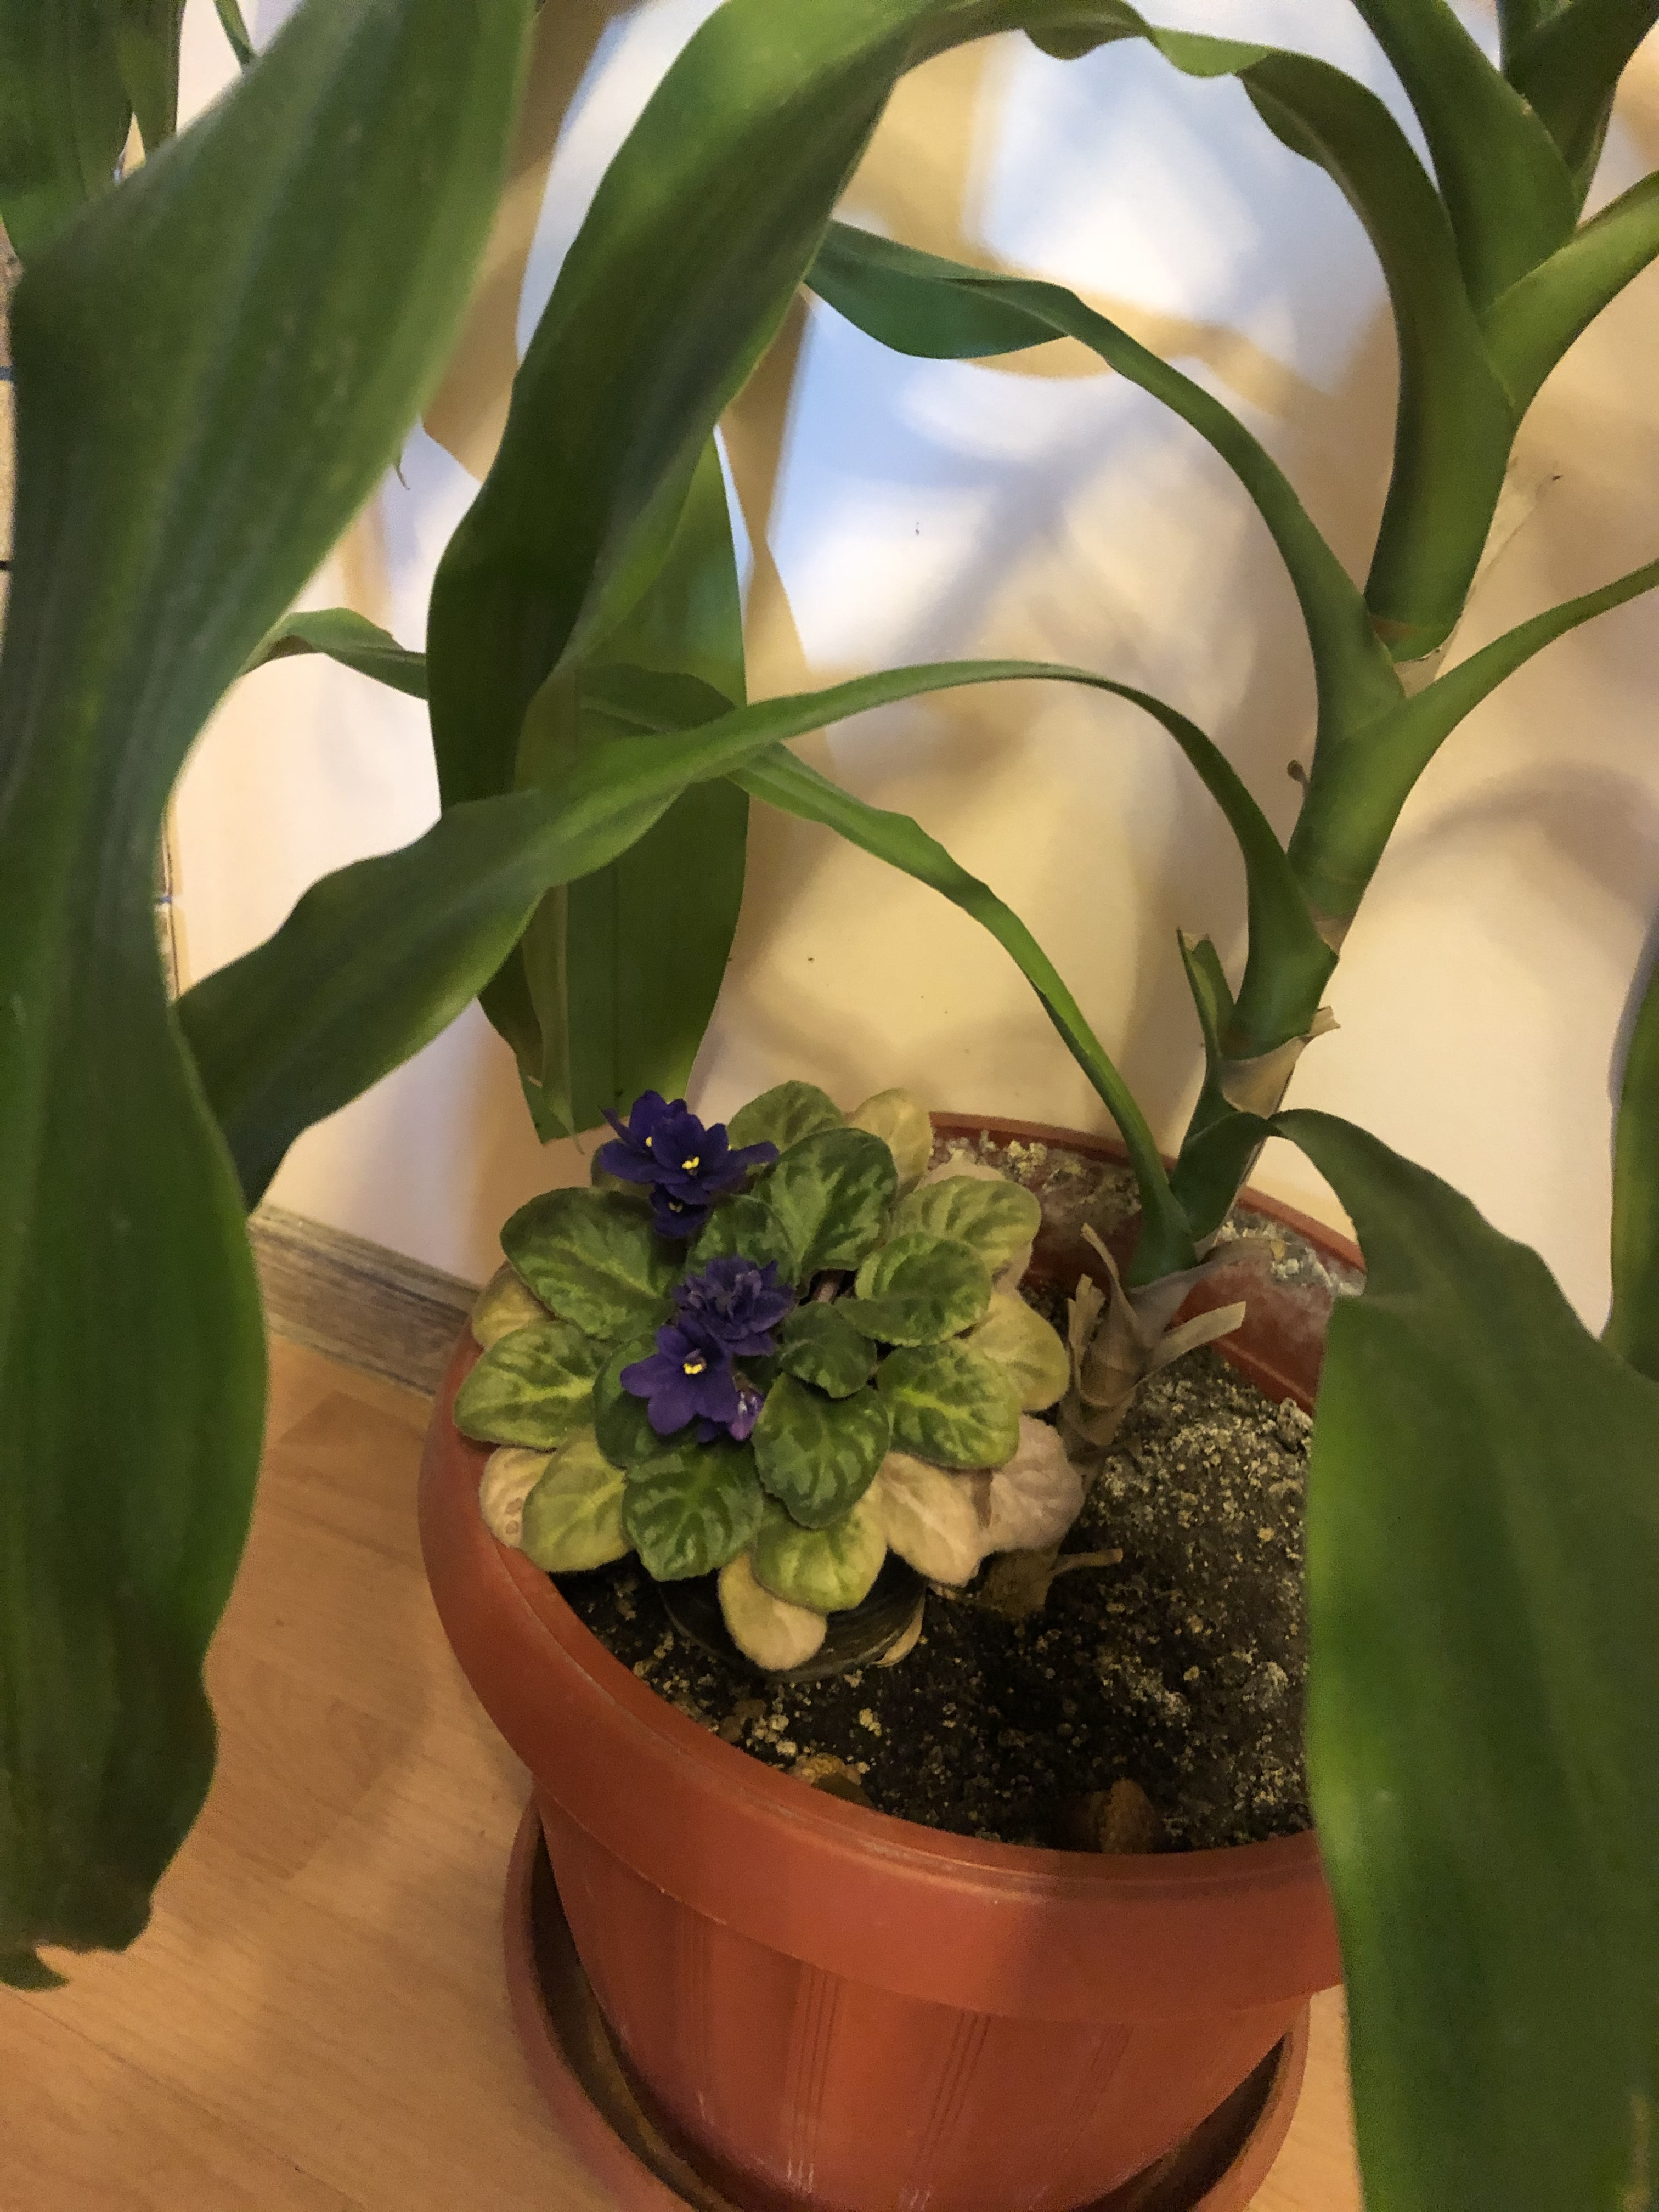ignore: (448, 1069, 1103, 1639)
